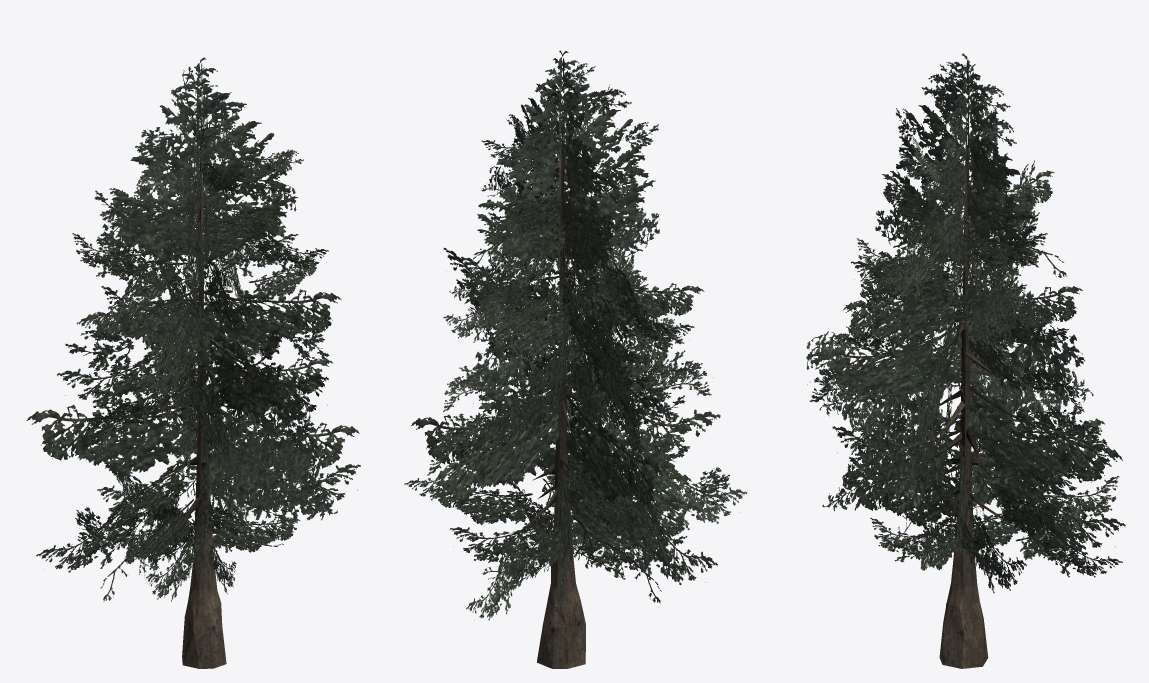
The model's file is forest_oak_small.glb.
3 views of the same model, side by side, from view 1: azimuth 30°, elevation 25°; view 2: azimuth 150°, elevation 25°; view 3: azimuth 270°, elevation 25° (orthographic).
Size of the model in its own units: 3.43 by 6 by 3.17.
Materials: 2 (2 with a texture image).
